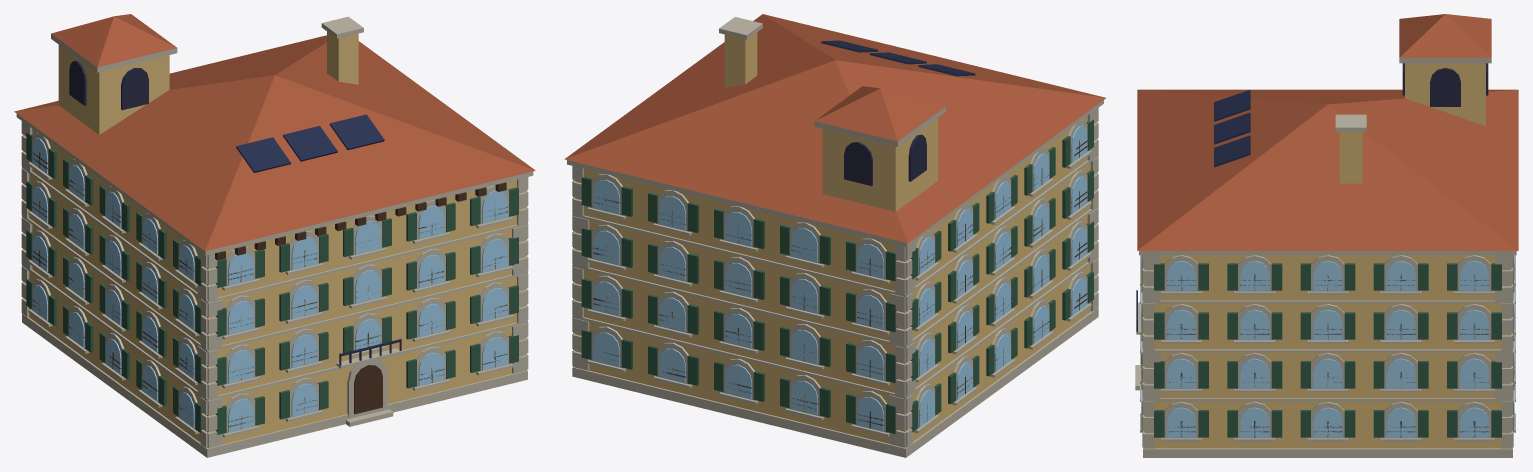
File: house-2x2-4f-tuscan-a-solar.glb
3 renders of one model, left to right at view 1: azimuth 30°, elevation 25°; view 2: azimuth 150°, elevation 25°; view 3: azimuth 270°, elevation 25°, orthographic. The views are drawn at different scales.
Parts seen in each view (by area): view 1: house-2x2-4f-tuscan-a-solar; view 2: house-2x2-4f-tuscan-a-solar; view 3: house-2x2-4f-tuscan-a-solar.
Boxes of the visible parts, x1,y1,x2,y2 form: house-2x2-4f-tuscan-a-solar: (14, 14, 535, 457); house-2x2-4f-tuscan-a-solar: (564, 14, 1105, 457); house-2x2-4f-tuscan-a-solar: (1135, 14, 1518, 457).
Bounding box in the file's own units: 1.98 × 1.81 × 1.99.
Materials: 1 (1 with a texture image).
